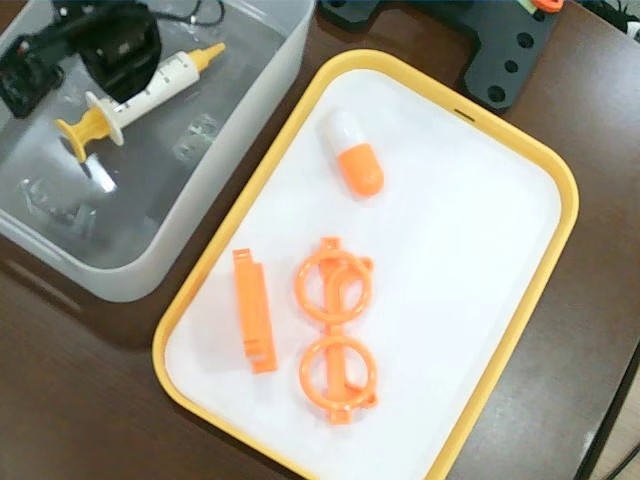pill: (327, 107, 388, 200)
syringe: (58, 43, 232, 163)
